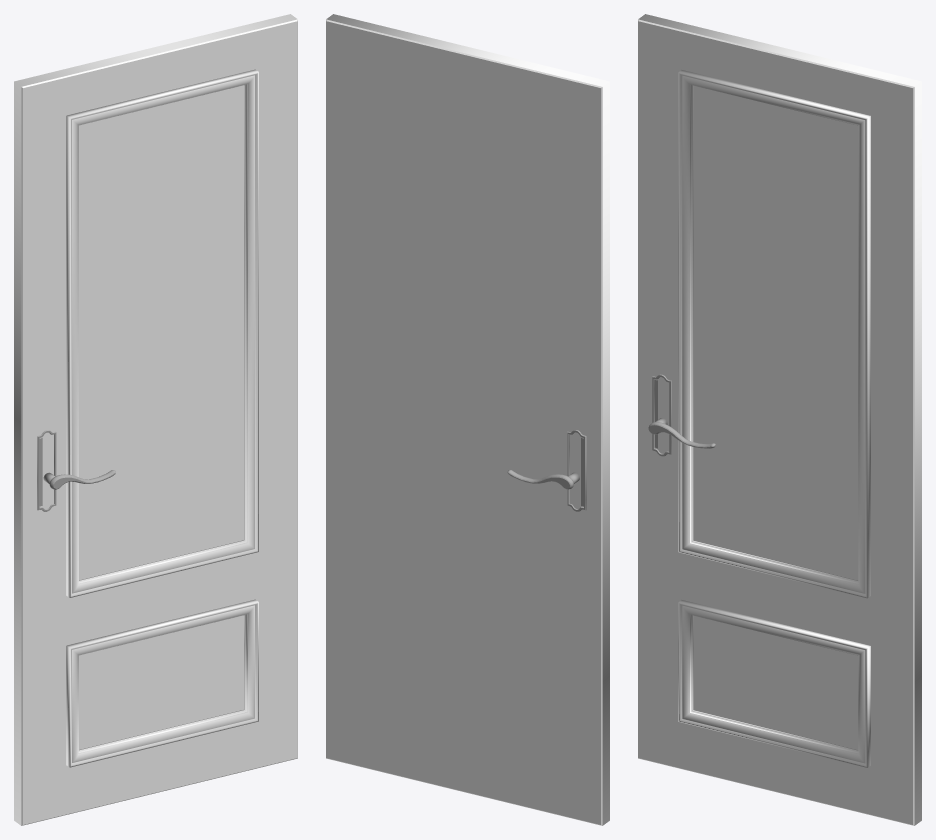
The model's file is neigemen.glb.
3 renders of one model, left to right at view 1: azimuth 30°, elevation 25°; view 2: azimuth 150°, elevation 25°; view 3: azimuth 330°, elevation 25°, orthographic.
Visible parts, largest first — view 1: neigemen; view 2: neigemen; view 3: neigemen.
Part boxes in pixels (bbox=[...]): neigemen: bbox=[14, 14, 297, 825]; neigemen: bbox=[326, 14, 609, 825]; neigemen: bbox=[638, 14, 921, 825].
Size of the model in its own units: 0.7598 by 1.94 by 0.136.
2 materials, 2 textured.
